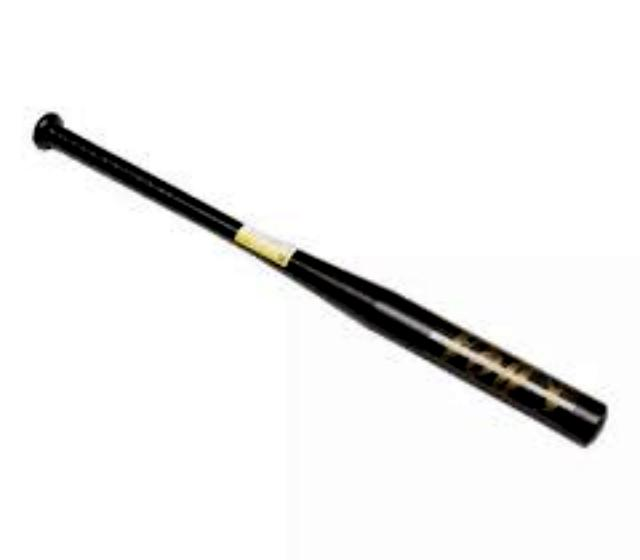baseball bat: (31, 114, 608, 449)
